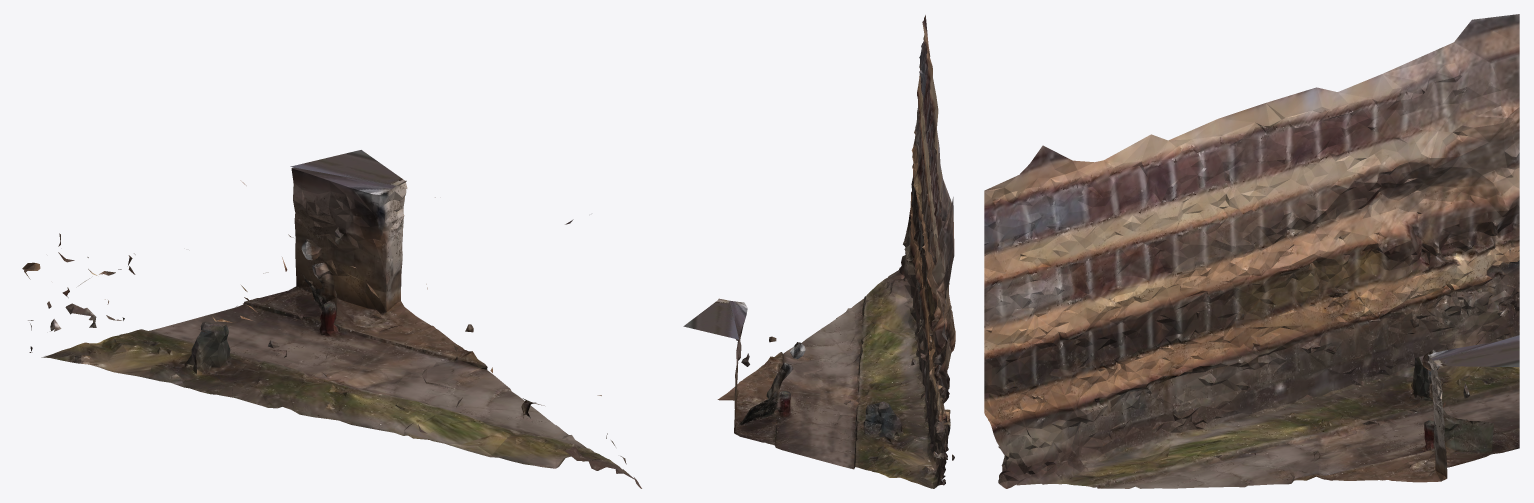
3 renders of one model, left to right at view 1: azimuth 30°, elevation 25°; view 2: azimuth 150°, elevation 25°; view 3: azimuth 270°, elevation 25°, orthographic. The views are drawn at different scales.
Bounding box in the file's own units: 14.27 × 14.21 × 20.89.
Materials: 4 (4 with a texture image).
